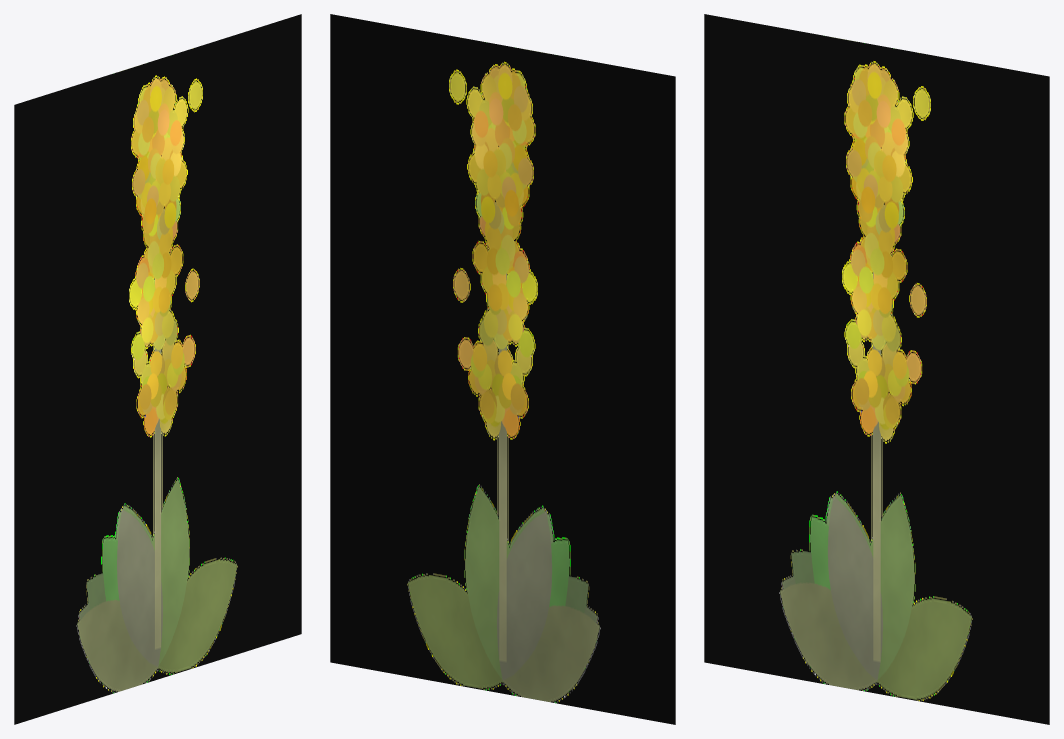
File: Plant_Mullein_1_LOD2.gltf
3 renders of one model, left to right at view 1: azimuth 30°, elevation 25°; view 2: azimuth 150°, elevation 25°; view 3: azimuth 330°, elevation 25°, orthographic. The views are drawn at different scales.
Visible parts, largest first — view 1: Plant_Mullein_1_LOD2; view 2: Plant_Mullein_1_LOD2; view 3: Plant_Mullein_1_LOD2.
Boxes of the visible parts, <box> form: Plant_Mullein_1_LOD2: <box>14,14,301,724</box>; Plant_Mullein_1_LOD2: <box>330,14,675,724</box>; Plant_Mullein_1_LOD2: <box>704,14,1049,724</box>.
Size of the model in its own units: 0.6951 by 1.33 by 0.0829.
Materials: 1 (1 with a texture image).
